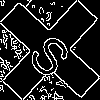S: (25, 25, 81, 82)
